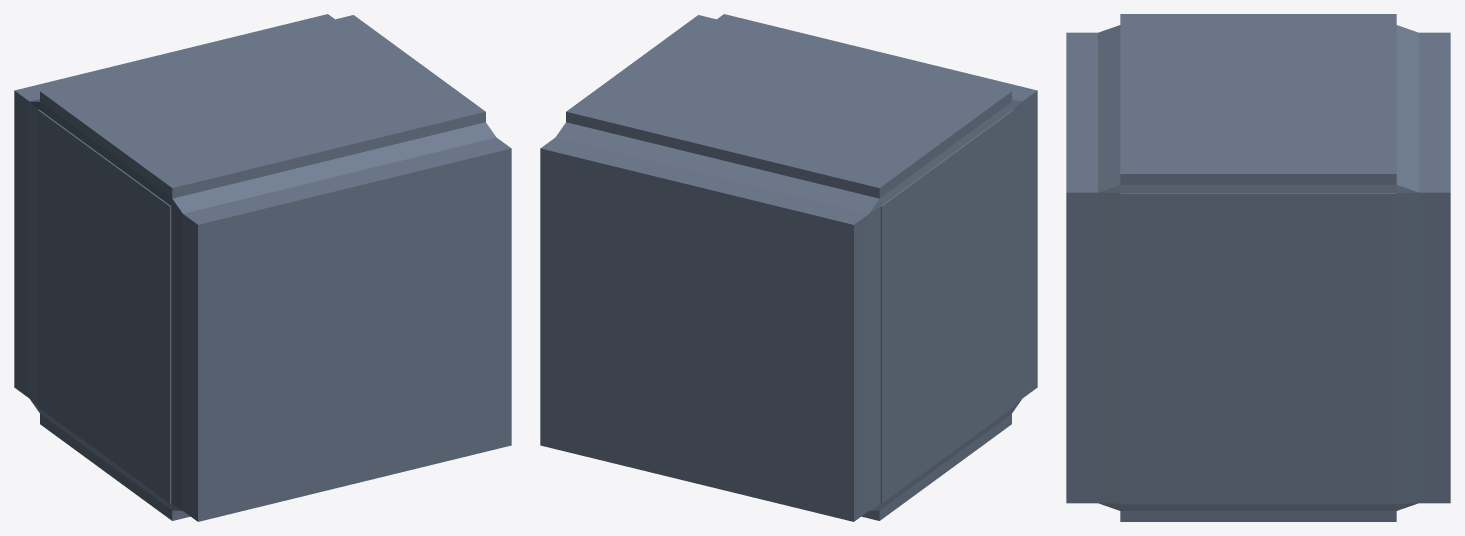
Rendered from bb_comp_DiceTray_TrayBackRail.fbx.
3 views of the same model, side by side, from view 1: azimuth 30°, elevation 25°; view 2: azimuth 150°, elevation 25°; view 3: azimuth 270°, elevation 25° (orthographic). The views are drawn at different scales.
Visible parts, largest first — view 1: bb_comp_DiceTray_TrayBackRail; view 2: bb_comp_DiceTray_TrayBackRail; view 3: bb_comp_DiceTray_TrayBackRail.
Part boxes in pixels (box(x1,y1,x2,y2)): bb_comp_DiceTray_TrayBackRail: box(14, 14, 511, 521); bb_comp_DiceTray_TrayBackRail: box(540, 14, 1037, 521); bb_comp_DiceTray_TrayBackRail: box(1066, 14, 1450, 521).
Size of the model in its own units: 1 by 1 by 1.
